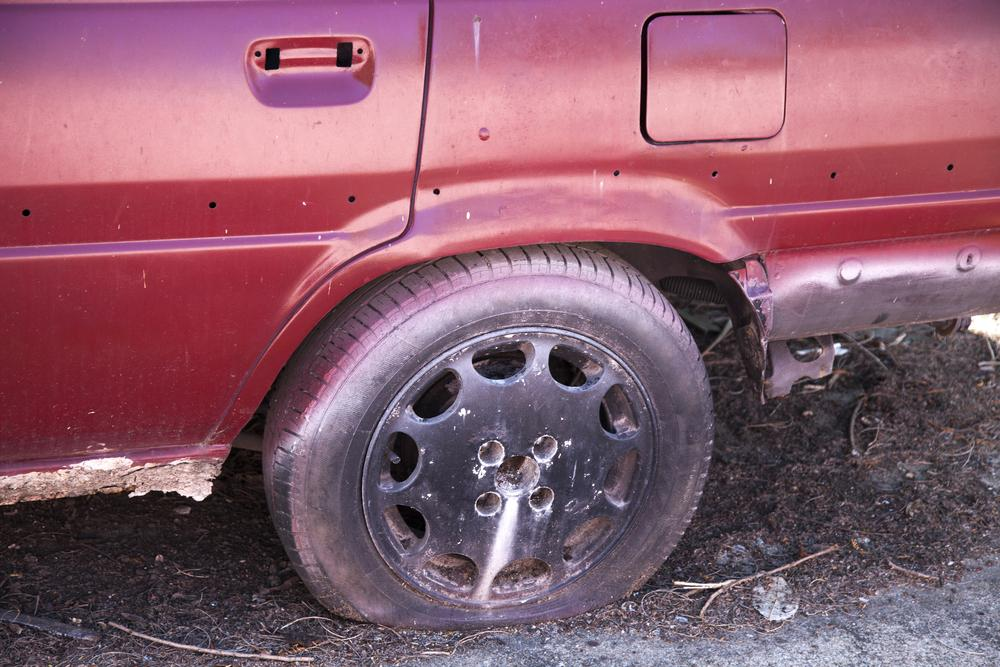tire flat: (262, 245, 716, 630)
